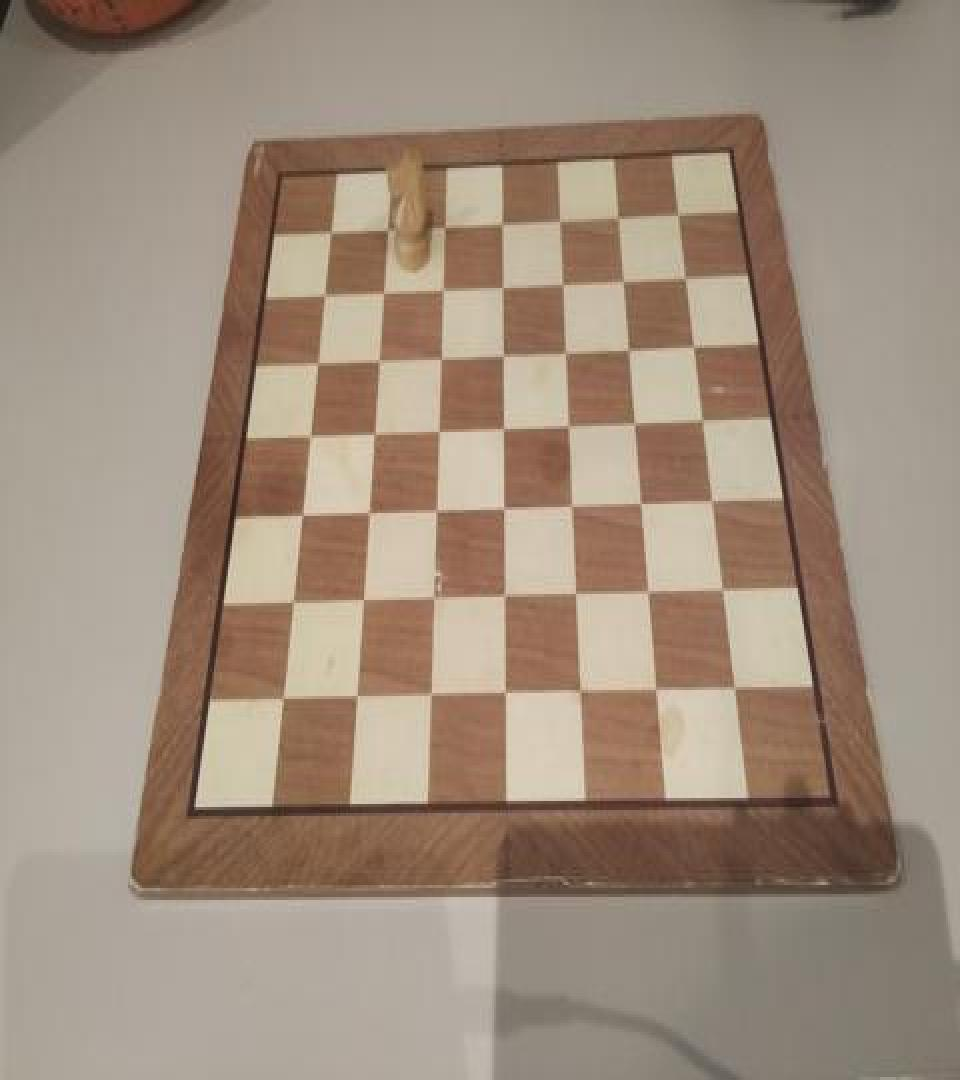xcorner: (357, 499, 377, 530), (314, 280, 334, 311), (344, 687, 364, 717), (418, 684, 438, 714), (569, 681, 589, 711), (646, 678, 666, 708), (724, 676, 744, 706), (281, 591, 301, 621), (351, 588, 371, 618), (492, 584, 512, 614), (638, 579, 658, 609), (712, 576, 732, 606), (291, 502, 311, 532), (424, 496, 444, 526), (492, 494, 512, 524), (561, 490, 581, 520), (630, 488, 650, 518), (701, 484, 721, 514), (299, 422, 319, 452), (363, 418, 383, 448), (427, 416, 447, 446), (492, 412, 512, 442), (557, 410, 577, 440), (624, 406, 644, 436), (691, 402, 711, 432), (307, 348, 327, 378), (368, 345, 388, 375), (429, 342, 449, 372), (491, 338, 511, 368), (554, 334, 574, 364), (617, 330, 637, 360), (682, 327, 702, 357), (372, 278, 392, 308), (431, 273, 451, 303), (491, 270, 511, 300), (551, 266, 571, 296), (612, 262, 632, 292), (673, 258, 693, 288), (321, 218, 341, 248), (377, 214, 397, 244), (433, 210, 453, 240), (490, 207, 510, 237), (548, 202, 568, 232), (607, 198, 627, 228), (666, 195, 686, 225), (271, 689, 291, 718), (493, 683, 513, 712), (421, 587, 441, 616), (565, 581, 585, 610)
